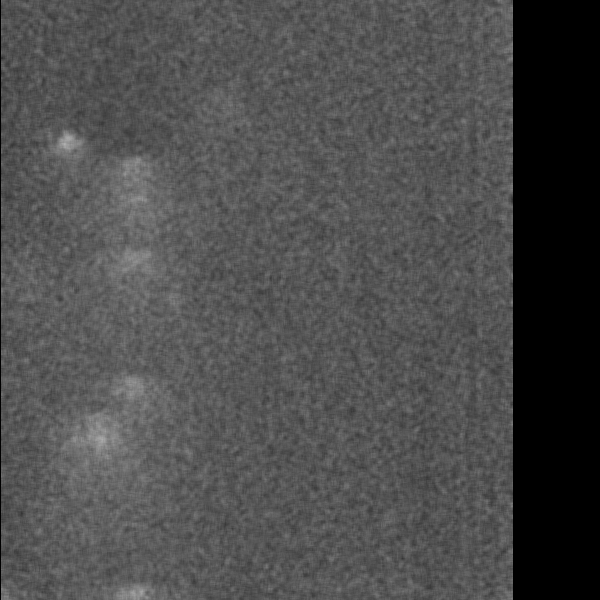spark: (60, 404, 135, 490), (106, 164, 154, 213), (99, 243, 164, 275), (47, 124, 91, 167), (94, 578, 152, 600)
